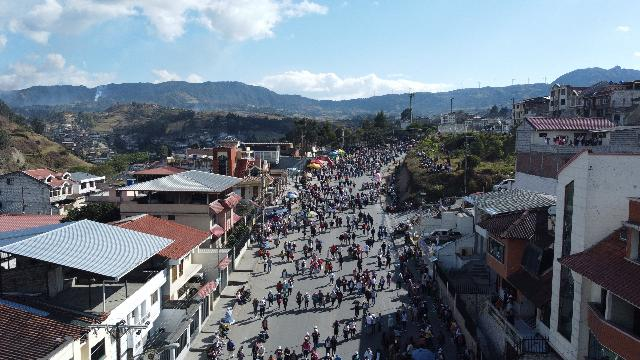Vehiculo: (422, 228, 462, 244), (492, 179, 514, 191)
